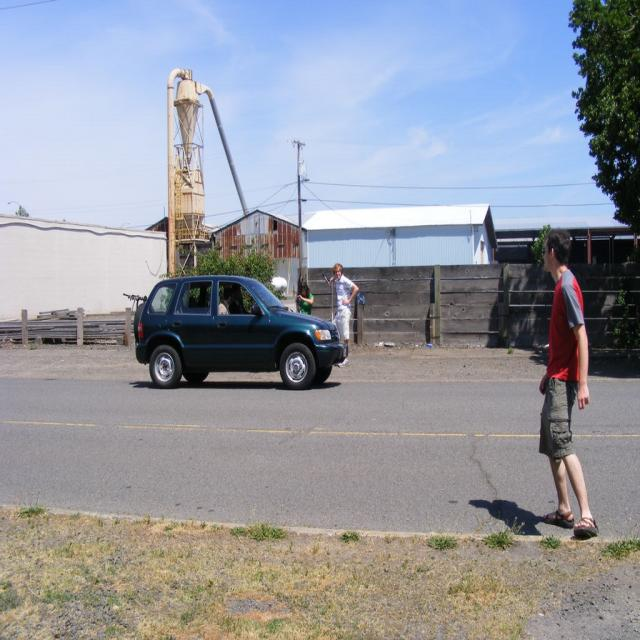other: (134, 275, 348, 390)
